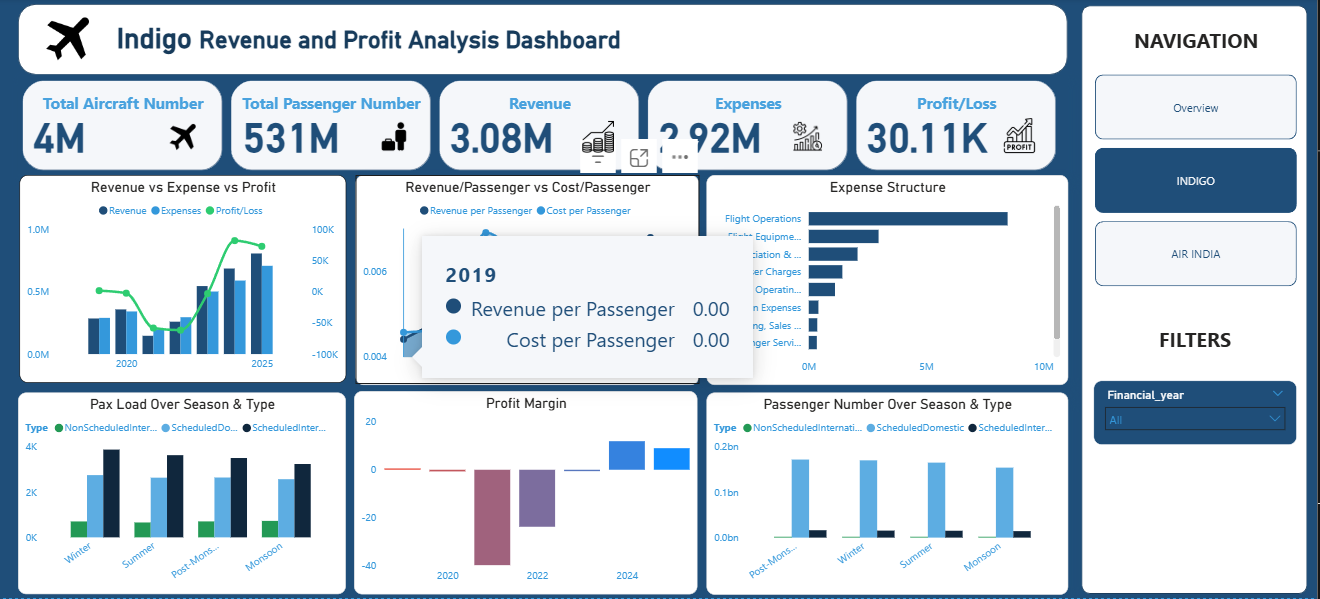

Layout of this report page (visuals, bound fields, positions):
{"tool":"powerbi","page":{"name":"INDIGO","canvas":[1580,720],"ordinal":1},"visuals":[{"type":"shape","box":[1297,9.3,270.8,705.9],"z":0,"group":"g1"},{"type":"cardVisual","fields":{"Data":["Sum(Yearly_traffic&finance.Total_Aircraft_Number)","Sum(Yearly_traffic&finance.Total_Passenger_Number)","Sum(Yearly_traffic&finance.TOTAL_OPERATING_REVENUEM)","Sum(Yearly_traffic&finance.TOTAL_OPERATING_EXPENSESM)","Sum(Yearly_traffic&finance.PROFIT/LOSS__AFTER_TAX)"]},"box":[20.9,92.7,1259.1,118.1],"z":0},{"type":"textbox","box":[1330.4,29.9,206.6,43.6],"z":1000,"group":"g1"},{"type":"areaChart","title":"Revenue/Passenger vs Cost/Passenger","fields":{"Category":["Yearly_traffic&finance.Financial_year"],"Y":["Sum(Yearly_traffic&finance.Revenue_per_Passenger)"],"Y2":["Sum(Yearly_traffic&finance.Cost_per_Passenger)"]},"box":[425.6,211.4,412.1,251.9],"z":1000},{"type":"pageNavigator","box":[1313.7,92.8,242.6,256.7],"z":2000,"group":"g1"},{"type":"clusteredColumnChart","title":"Pax Load Over Season & Type","fields":{"Category":["TRAFFIC DATA.season"],"Y":["Sum(TRAFFIC DATA.Pax Load factor)"],"Series":["TRAFFIC DATA.Type"]},"box":[21.4,473,393.6,242.1],"z":2000},{"type":"barChart","title":"Expense Structure","fields":{"Category":["finance.OPERATING FACTORS"],"Y":["Sum(finance.OPERATING FACTORS VALUES)"]},"box":[847.1,211.4,433.7,251.9],"z":3000},{"type":"textbox","box":[1329.1,386.7,207.9,43.6],"z":3000,"group":"g1"},{"type":"slicer","fields":{"Values":["year_table.Financial_year"]},"box":[1311.1,459.9,243.9,77],"z":4000,"group":"g1"},{"type":"columnChart","title":"Profit Margin","fields":{"Category":["Yearly_traffic&finance.Financial_year"],"Y":["Sum(Yearly_traffic&finance.Profit_Margin_percent)"]},"box":[425,471.4,412.1,243.8],"z":4000},{"type":"image","box":[195.3,145.5,45.8,41.8],"z":5000},{"type":"image","box":[440.4,140.1,63.3,51.2],"z":6000},{"type":"image","box":[689.6,141.4,56.6,48.5],"z":7000},{"type":"image","box":[933.3,141.4,70,47.1],"z":8000},{"type":"shape","box":[21.5,8.1,1259.3,84.8],"z":9000},{"type":"textbox","box":[135.2,23.7,969.7,51.8],"z":10000},{"type":"image","box":[1196,137.4,52.5,56.6],"z":12000},{"type":"image","box":[47.3,18,68.7,61.9],"z":14000},{"type":"lineClusteredColumnComboChart","title":"Revenue vs Expense vs Profit","fields":{"Category":["Yearly_traffic&finance.Financial_year"],"Y":["Sum(Yearly_traffic&finance.TOTAL_OPERATING_REVENUEM)","Sum(Yearly_traffic&finance.TOTAL_OPERATING_EXPENSESM)"],"Y2":["Sum(Yearly_traffic&finance.PROFIT/LOSS__AFTER_TAX)"]},"box":[22.9,211.4,391.9,249.2],"z":15000},{"type":"clusteredColumnChart","title":"Passenger Number Over Season & Type","fields":{"Category":["TRAFFIC DATA.season"],"Series":["TRAFFIC DATA.Type"],"Y":["Sum(TRAFFIC DATA.Passenger Number)"]},"box":[847.1,472.7,433.7,242.4],"z":16000},{"type":"group","id":"g1","title":"Group 2","box":[1297,9.3,270.8,705.9],"z":17000}]}

Visuals, with their boxes in screenshot pixels (x1, y1, x2, y2), scaled from the page's 1580x720 canvas onto the 1320x599 screenshot:
shape: rect(1084, 8, 1310, 595)
cardVisual - Sum(Yearly_traffic&finance.Total_Aircraft_Number) x Sum(Yearly_traffic&finance.Total_Passenger_Number): rect(17, 77, 1069, 175)
textbox: rect(1111, 25, 1284, 61)
"Revenue/Passenger vs Cost/Passenger" areaChart: rect(356, 176, 700, 385)
pageNavigator: rect(1098, 77, 1300, 291)
"Pax Load Over Season & Type" clusteredColumnChart: rect(18, 394, 347, 595)
"Expense Structure" barChart: rect(708, 176, 1070, 385)
textbox: rect(1110, 322, 1284, 358)
slicer - year_table.Financial_year: rect(1095, 383, 1299, 447)
"Profit Margin" columnChart: rect(355, 392, 699, 595)
image: rect(163, 121, 201, 156)
image: rect(368, 117, 421, 159)
image: rect(576, 118, 623, 158)
image: rect(780, 118, 838, 157)
shape: rect(18, 7, 1070, 77)
textbox: rect(113, 20, 923, 63)
image: rect(999, 114, 1043, 161)
image: rect(40, 15, 97, 66)
"Revenue vs Expense vs Profit" lineClusteredColumnComboChart: rect(19, 176, 347, 383)
"Passenger Number Over Season & Type" clusteredColumnChart: rect(708, 393, 1070, 595)
"Group 2" group: rect(1084, 8, 1310, 595)
